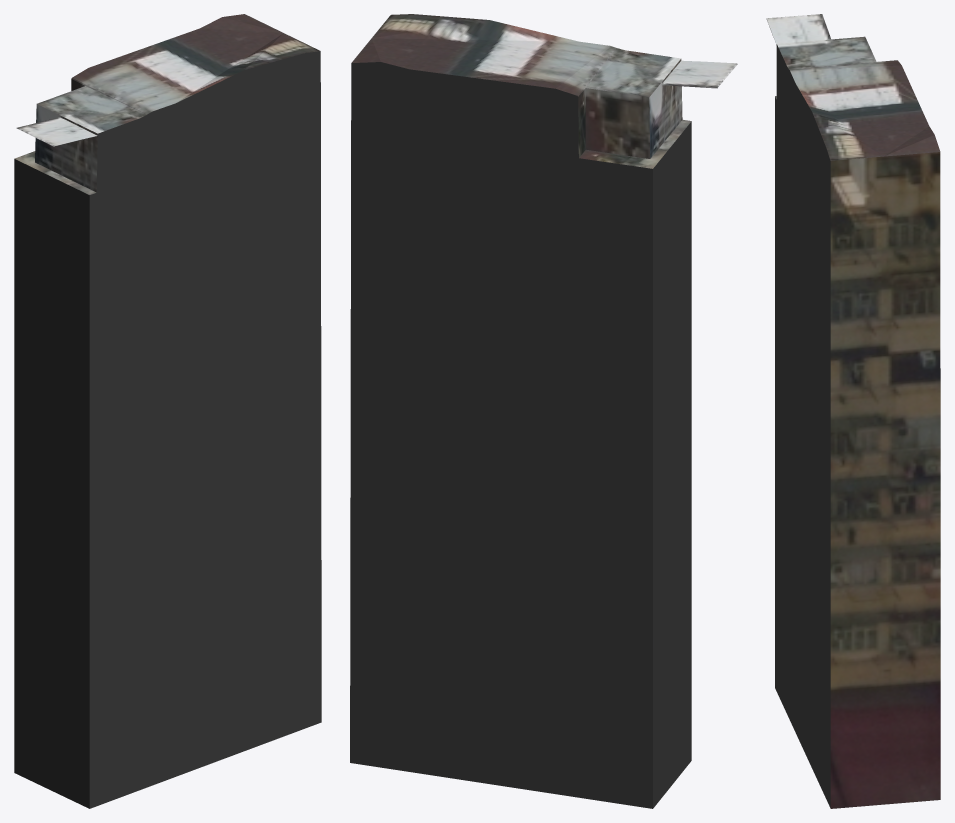
Rendered from input.glb.
3 views of the same model, side by side, from view 1: azimuth 30°, elevation 25°; view 2: azimuth 150°, elevation 25°; view 3: azimuth 270°, elevation 25° (orthographic). The views are drawn at different scales.
Parts seen in each view (by area): view 1: B352801986901063A0; view 2: B352801986901063A0; view 3: B352801986901063A0.
Boxes of the visible parts, box(x1,y1,x2,y2) form: B352801986901063A0: box(14, 14, 321, 808); B352801986901063A0: box(350, 14, 737, 808); B352801986901063A0: box(766, 14, 940, 808).
Bounding box in the file's own units: 13.95 × 29.36 × 7.05.
Materials: 1 (1 with a texture image).
